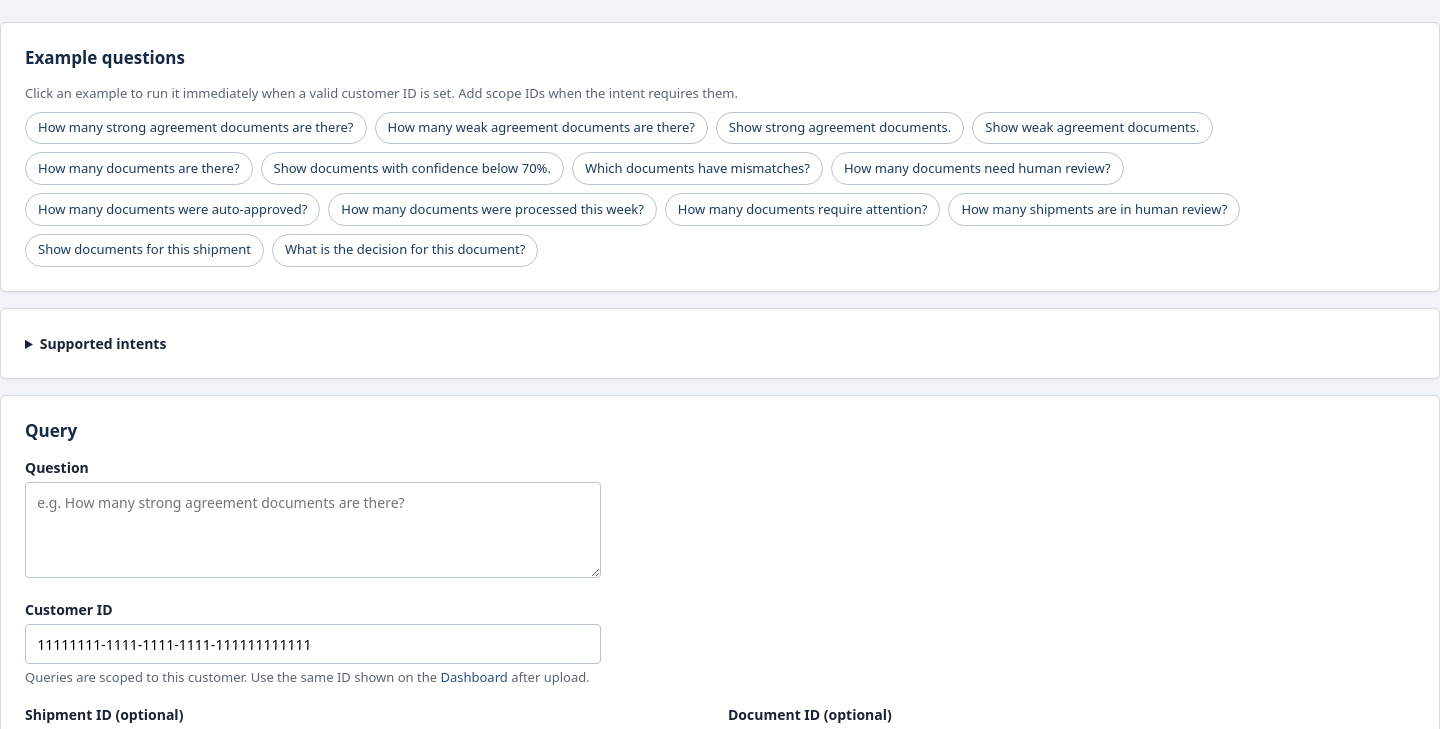
Test case: QueryPage › shows API failure for transport errors
In the text box labelled "Question": (313, 530) [25, 482, 601, 578], type "Get document"
(page scrolled)
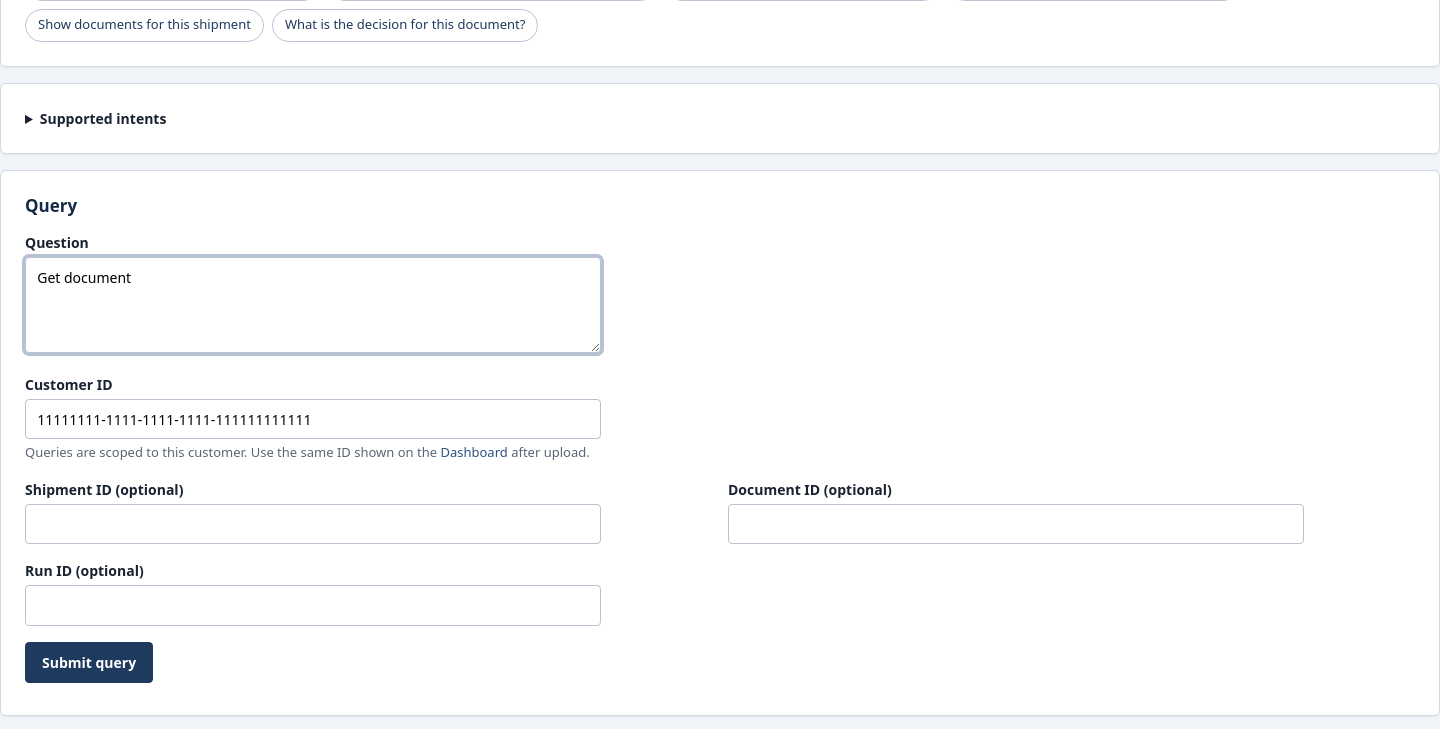
Click the button "Submit query": (89, 662) [25, 642, 153, 683]
(page scrolled)
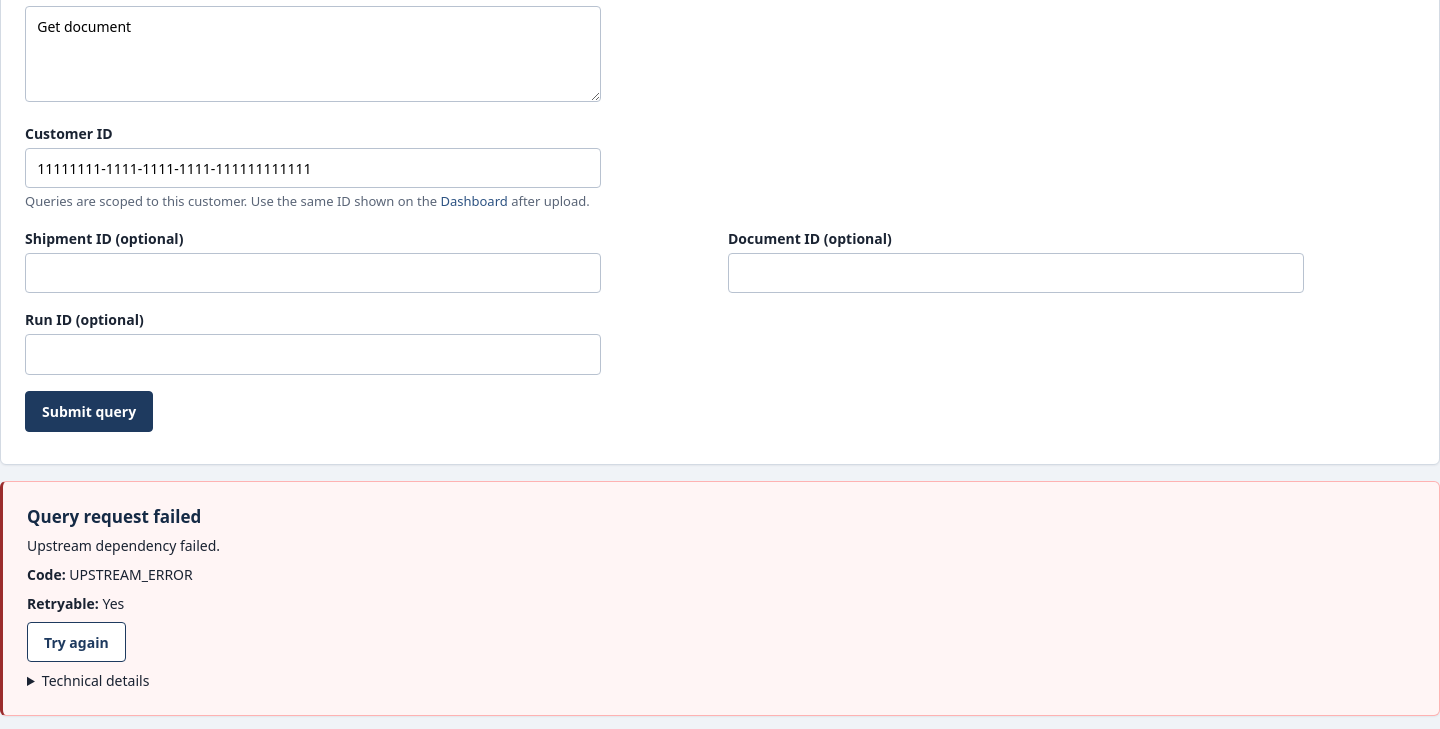
Expected: the text "Upstream dependency failed." is shown, [27, 536, 220, 555]
Expected: the button "Try again" is shown, [27, 622, 126, 662]
